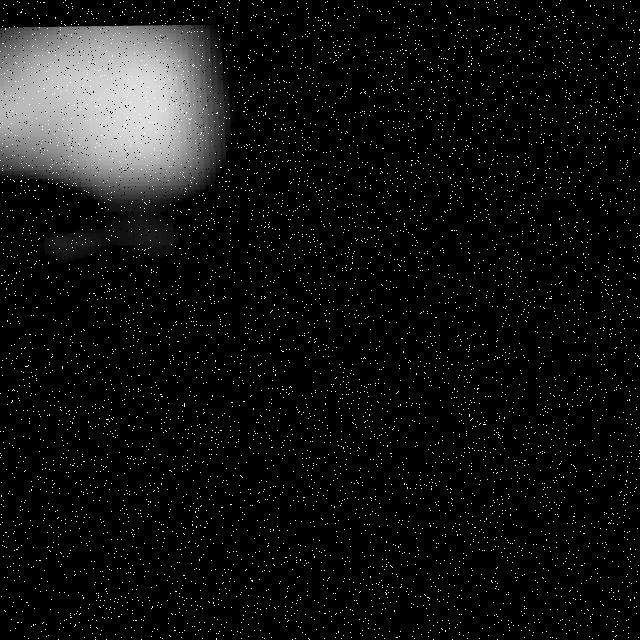person: (1, 10, 234, 275)
